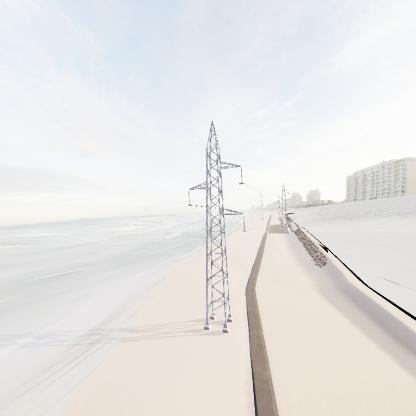tower: (185, 115, 251, 339)
